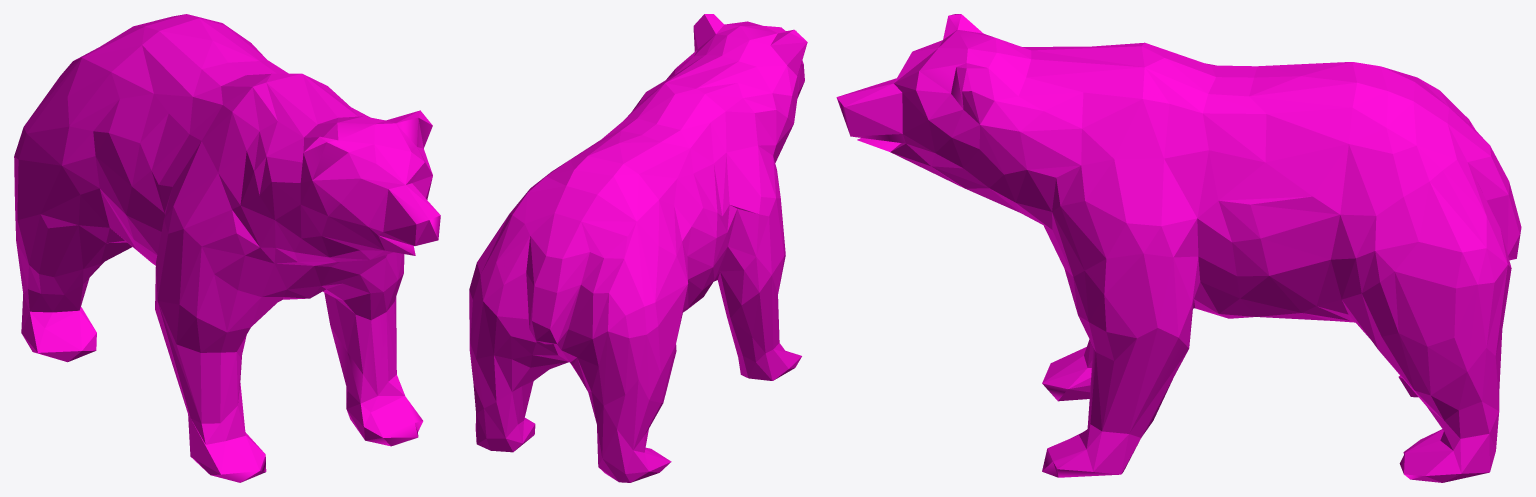
The model's file is pinkbearfromfbx.gltf.
3 views of the same model, side by side, from view 1: azimuth 30°, elevation 25°; view 2: azimuth 150°, elevation 25°; view 3: azimuth 270°, elevation 25° (orthographic). The views are drawn at different scales.
Visible parts, largest first — view 1: Layer 01; view 2: Layer 01; view 3: Layer 01.
Part boxes in pixels (bbox=[...]): Layer 01: bbox=[14, 14, 440, 482]; Layer 01: bbox=[469, 14, 807, 482]; Layer 01: bbox=[836, 14, 1521, 482].
Size of the model in its own units: 0.4196 by 0.6332 by 1.
